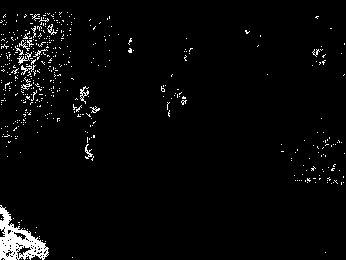person: (72, 86, 102, 164)
